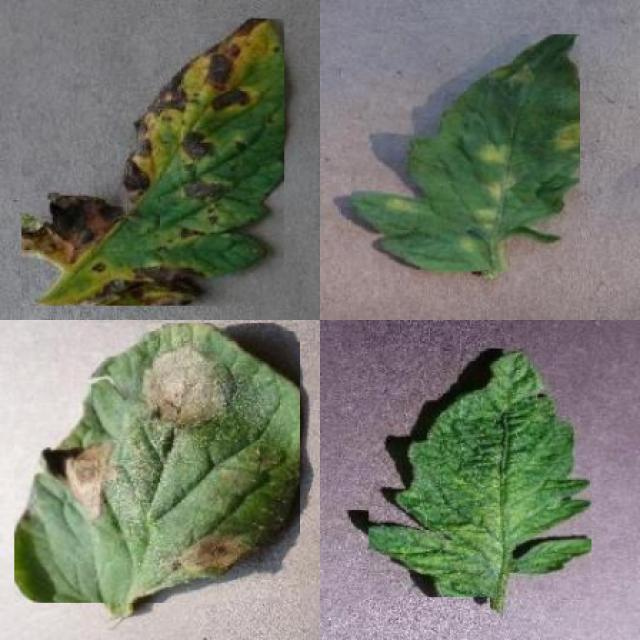Early Blight: (22, 18, 285, 306)
Late Blight: (14, 323, 300, 603)
Leaf Mold: (351, 35, 580, 271)
Mosaic Virus: (368, 348, 592, 598)
